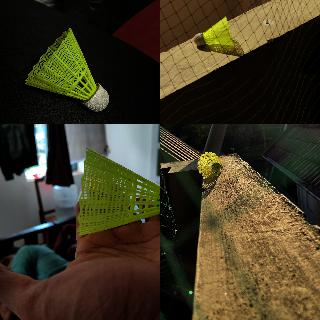shuttlecock: (77, 148, 159, 237), (24, 27, 108, 111), (194, 16, 234, 46), (196, 151, 222, 177)
